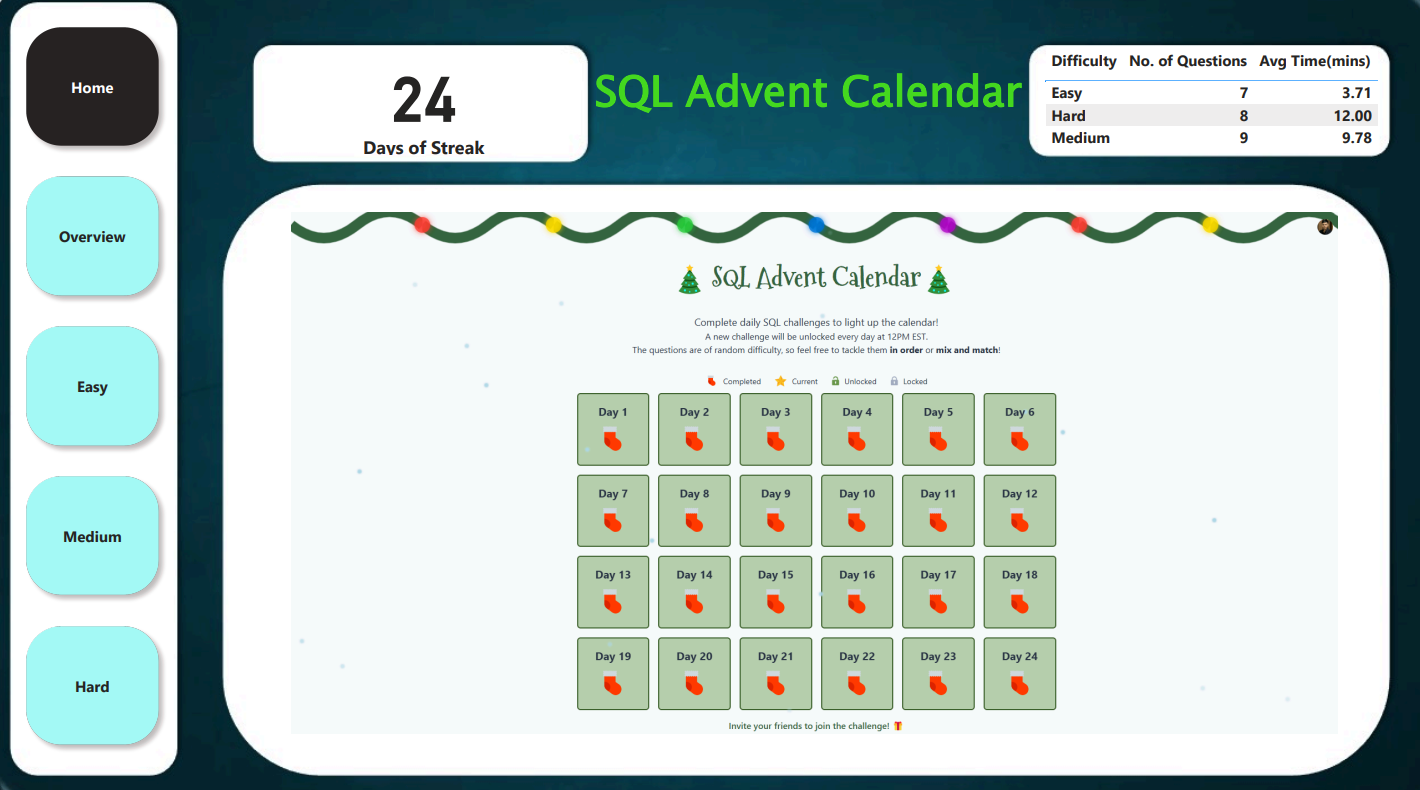

What the dashboard file says about the page in this screenshot:
{"tool":"powerbi","page":{"name":"Home","canvas":[1280,720],"ordinal":0},"visuals":[{"type":"textbox","box":[528.6,54.3,400,77.1],"z":0},{"type":"pageNavigator","box":[20,21.4,135.7,657.1],"z":1000},{"type":"image","box":[258.6,165.7,940,518.6],"z":1001},{"type":"card","fields":{"Values":["Count(Sheet1.Day)"]},"box":[247.1,47.1,270,101.4],"z":1002},{"type":"tableEx","fields":{"Values":["Sheet1.Difficulty","Count(Sheet1.Day)","Sheet1.AvgTimePerChallenge"]},"box":[928.6,44.3,351.4,108.6],"z":1003}]}

Visuals, with their boxes on the page's 1280x720 design canvas (x1, y1, x2, y2). These are canvas units, not pixel positions in the 1420x790 screenshot, which may show the page scaled, cropped or inside an application window:
textbox: pyautogui.locateOnScreen(529, 54, 929, 131)
pageNavigator: pyautogui.locateOnScreen(20, 21, 156, 678)
image: pyautogui.locateOnScreen(259, 166, 1199, 684)
card - Count(Sheet1.Day): pyautogui.locateOnScreen(247, 47, 517, 148)
tableEx - Sheet1.Difficulty x Count(Sheet1.Day): pyautogui.locateOnScreen(929, 44, 1280, 153)
